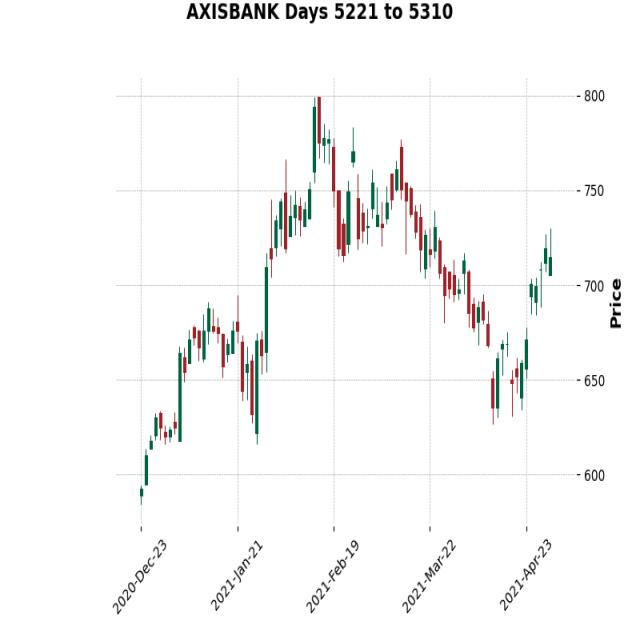Symmetric Triangle: (274, 61, 418, 264)
